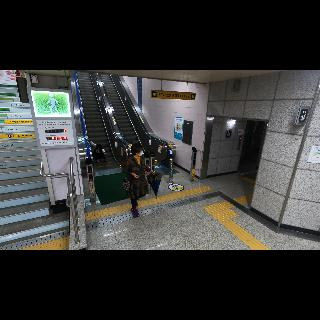anomaly: (84, 136, 108, 164)
normal: (120, 142, 156, 218)
